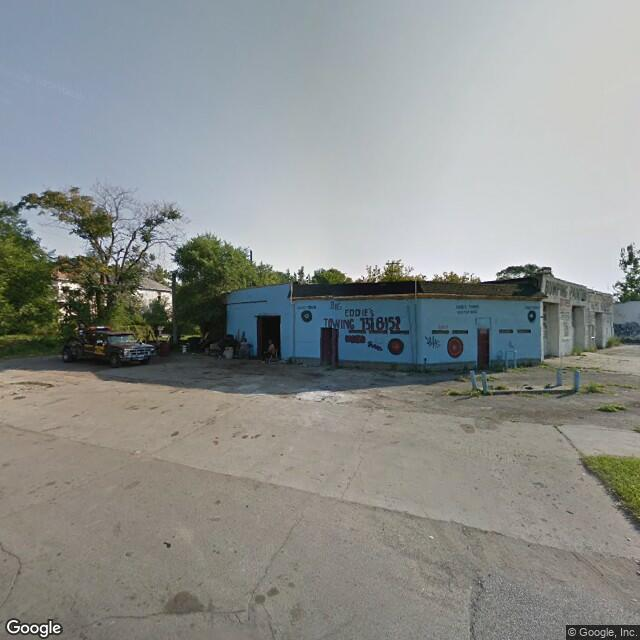litter: (201, 333, 221, 342), (242, 345, 250, 361), (210, 348, 225, 356), (226, 345, 236, 356), (209, 344, 226, 350), (180, 343, 189, 351), (429, 534, 435, 539)
